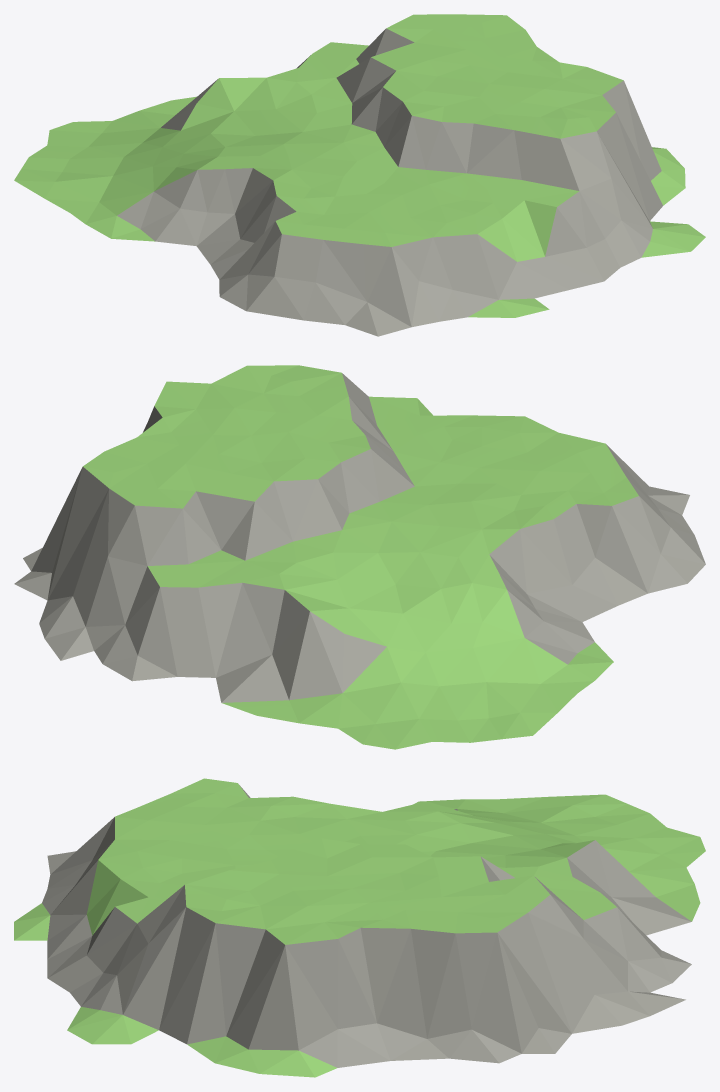
Rendered from mountain.glb.
The picture shows the model from 3 angles, top to bottom: view 1: azimuth 30°, elevation 25°; view 2: azimuth 150°, elevation 25°; view 3: azimuth 270°, elevation 25°; orthographic projection. The views are drawn at different scales.
Visible parts, largest first — view 1: CPT_Mountain_M_c_21; view 2: CPT_Mountain_M_c_21; view 3: CPT_Mountain_M_c_21.
Part boxes in pixels (x1,y1,x2,y2): CPT_Mountain_M_c_21: (14, 14, 705, 336); CPT_Mountain_M_c_21: (14, 365, 705, 749); CPT_Mountain_M_c_21: (14, 778, 705, 1077).
Size of the model in its own units: 46.87 by 8.02 by 48.44.
1 material, 1 textured.
